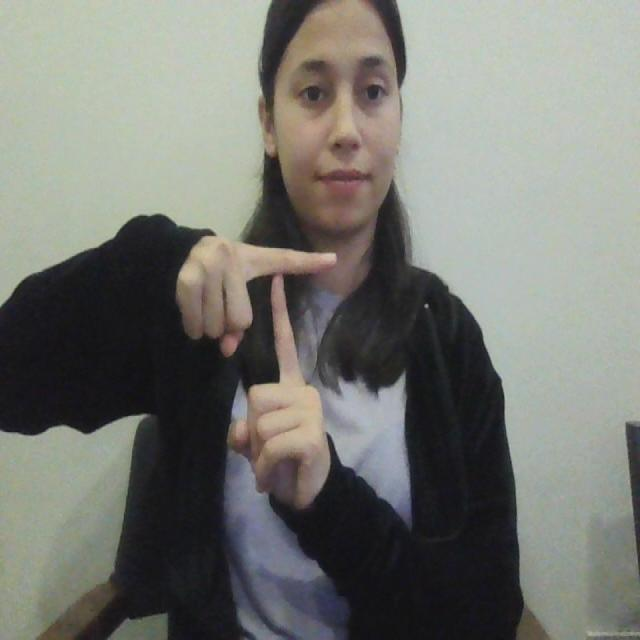Tesekkurler: (220, 226, 333, 407)
